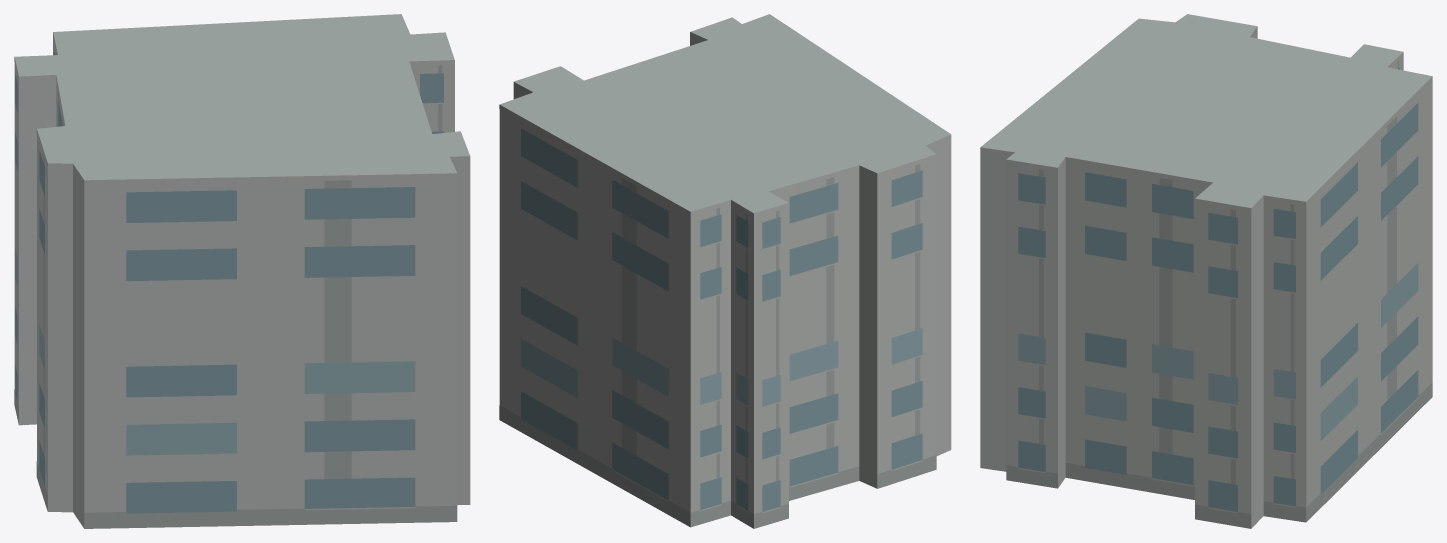
Rendered from survey-upis-32967426.glb.
3 renders of one model, left to right at view 1: azimuth 30°, elevation 25°; view 2: azimuth 150°, elevation 25°; view 3: azimuth 270°, elevation 25°, orthographic. The views are drawn at different scales.
Visible parts, largest first — view 1: survey-upis-32967426.tmp; view 2: survey-upis-32967426.tmp; view 3: survey-upis-32967426.tmp.
Boxes of the visible parts, x1=… form: survey-upis-32967426.tmp: x1=14, y1=14, x2=470, y2=528; survey-upis-32967426.tmp: x1=499, y1=14, x2=951, y2=528; survey-upis-32967426.tmp: x1=980, y1=14, x2=1432, y2=528.
Size of the model in its own units: 21.92 by 16.88 by 21.58.
